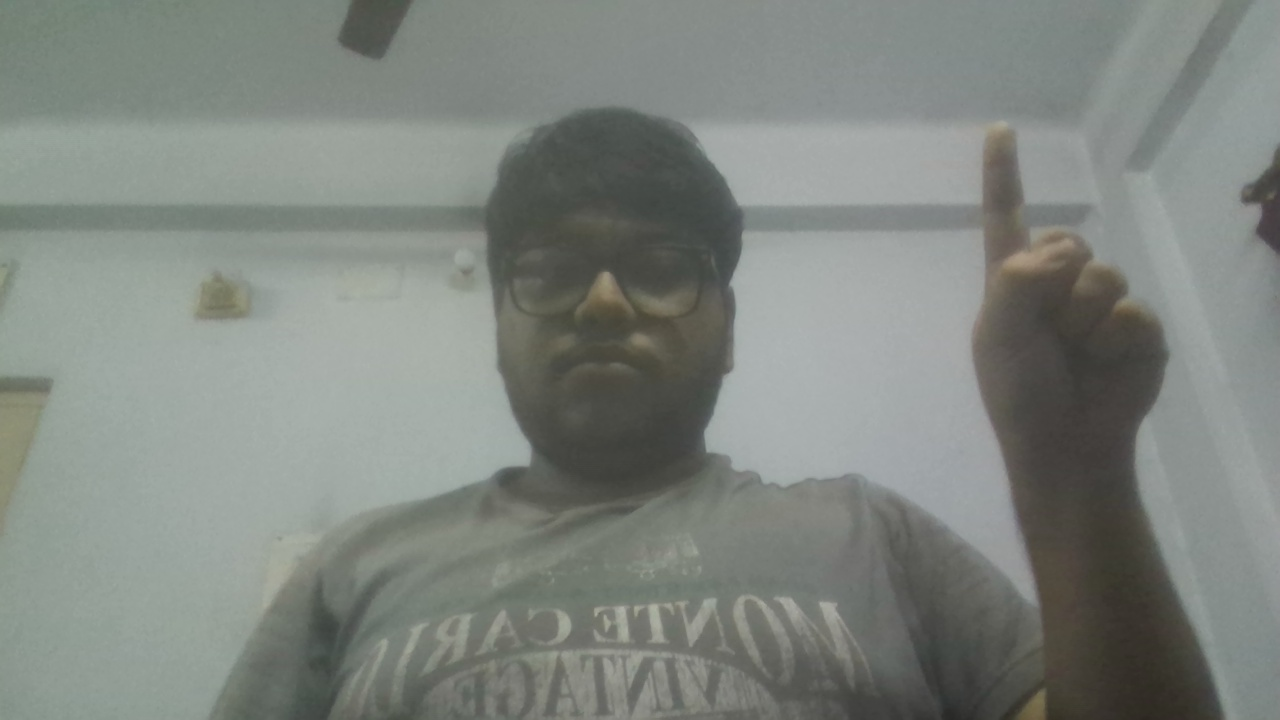Gesture1: (960, 112, 1182, 490)
